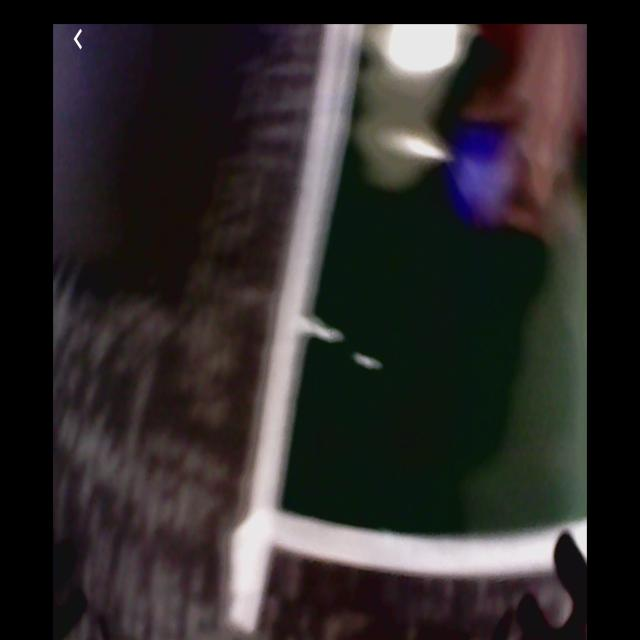ball: (453, 128, 513, 230)
